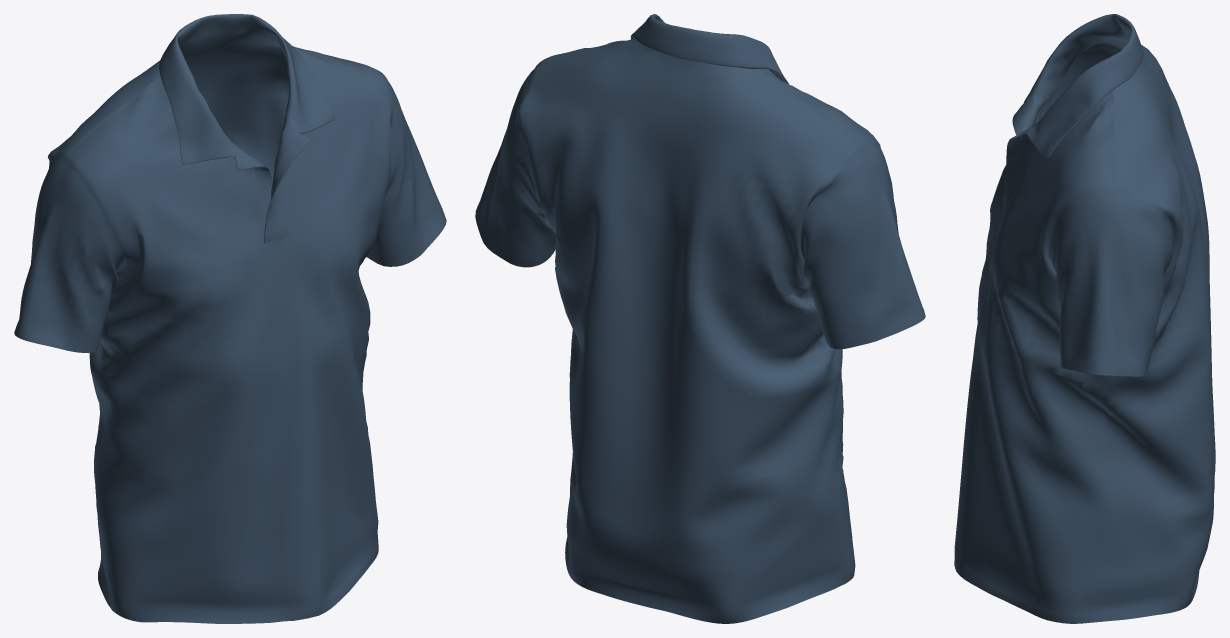
File: SK_Mannequin.FBX
3 views of the same model, side by side, from view 1: azimuth 30°, elevation 25°; view 2: azimuth 150°, elevation 25°; view 3: azimuth 270°, elevation 25° (orthographic). The views are drawn at different scales.
Parts seen in each view (by area): view 1: polySurface83842; view 2: polySurface83842; view 3: polySurface83842.
Boxes of the visible parts, bbox=[...] form: polySurface83842: bbox=[14, 14, 446, 623]; polySurface83842: bbox=[475, 14, 925, 623]; polySurface83842: bbox=[954, 14, 1215, 623].
Bounding box in the file's own units: 10.62 × 12.87 × 5.63.
